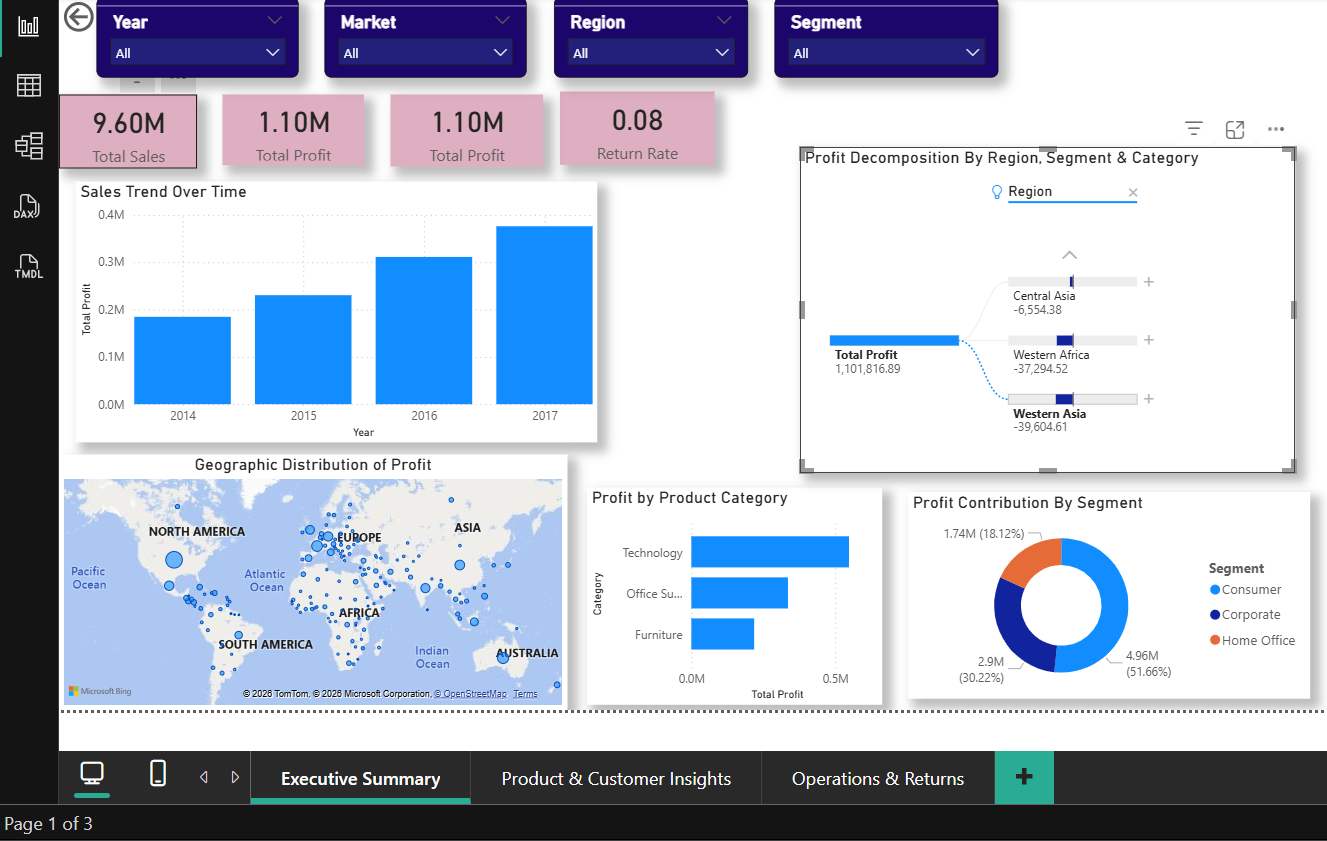

What the dashboard file says about the page in this screenshot:
{"tool":"powerbi","page":{"name":"Executive Summary","canvas":[1280,720],"ordinal":0},"visuals":[{"type":"card","fields":{"Values":["_Measures.Total Sales"]},"box":[0,98.6,140,74.3],"z":0},{"type":"card","fields":{"Values":["_Measures.Return Rate"]},"box":[505.7,95.7,155.7,74.3],"z":1000},{"type":"card","fields":{"Values":["_Measures.Total Profit"]},"box":[165.7,98.6,142.9,71.4],"z":2000},{"type":"card","fields":{"Values":["_Measures.Total Profit"]},"box":[334.3,98.6,154.3,72.9],"z":3000},{"type":"lineClusteredColumnComboChart","title":"Sales Trend Over Time","fields":{"Category":["Dim_Date.Order Date.Variation.Date Hierarchy.Year","Dim_Date.Order Date.Variation.Date Hierarchy.Quarter","Dim_Date.Order Date.Variation.Date Hierarchy.Month","Dim_Date.Order Date.Variation.Date Hierarchy.Day"],"Y":["_Measures.Total Profit"]},"box":[16.7,186.2,526.9,263.5],"z":4000},{"type":"actionButton","box":[0,0,100,40],"z":5000},{"type":"map","title":"Geographic Distribution of Profit","fields":{"Category":["Dim_Geography.Country"],"Size":["_Measures.Total Sales"]},"box":[0,461.7,513.3,258.3],"z":6000},{"type":"clusteredBarChart","title":"Profit by Product Category","fields":{"Category":["Dim_Product.Category"],"Y":["_Measures.Total Profit"]},"box":[533,495.1,298.3,219.6],"z":7000},{"type":"donutChart","title":"Profit Contribution By Segment","fields":{"Category":["Dim_Customer.Segment"],"Y":["_Measures.Total Sales"]},"box":[857,499.7,405.8,209],"z":8000},{"type":"decompositionTreeVisual","title":"Profit Decomposition By Region, Segment & Category","fields":{"ExplainBy":["Dim_Geography.Region","Dim_Customer.Segment","Dim_Product.Category"],"Analyze":["_Measures.Total Profit"]},"box":[748,152,500,328],"z":9000},{"type":"slicer","fields":{"Values":["Dim_Date.Order Date.Variation.Date Hierarchy.Year"]},"box":[38,0,204,81],"z":10000},{"type":"slicer","fields":{"Values":["Dim_Geography.Market"]},"box":[267.5,0,203.8,81.2],"z":11000},{"type":"slicer","fields":{"Values":["Dim_Geography.Region"]},"box":[499,0,196,81],"z":12000},{"type":"slicer","fields":{"Values":["Dim_Customer.Segment"]},"box":[722.5,0,226.2,81.2],"z":13000}]}

Visuals, with their boxes in screenshot pixels (x1, y1, x2, y2):
card - _Measures.Total Sales: bbox=[55, 94, 193, 167]
card - _Measures.Return Rate: bbox=[554, 91, 708, 164]
card - _Measures.Total Profit: bbox=[219, 94, 360, 164]
card - _Measures.Total Profit: bbox=[385, 94, 537, 166]
"Sales Trend Over Time" lineClusteredColumnComboChart: bbox=[72, 180, 591, 440]
actionButton: bbox=[55, 0, 154, 36]
"Geographic Distribution of Profit" map: bbox=[55, 452, 561, 707]
"Profit by Product Category" clusteredBarChart: bbox=[581, 485, 875, 701]
"Profit Contribution By Segment" donutChart: bbox=[900, 489, 1301, 695]
"Profit Decomposition By Region, Segment & Category" decompositionTreeVisual: bbox=[793, 146, 1286, 470]
slicer - Dim_Date.Order Date.Variation.Date Hierarchy.Year: bbox=[93, 0, 294, 76]
slicer - Dim_Geography.Market: bbox=[319, 0, 520, 77]
slicer - Dim_Geography.Region: bbox=[547, 0, 741, 76]
slicer - Dim_Customer.Segment: bbox=[768, 0, 991, 77]
